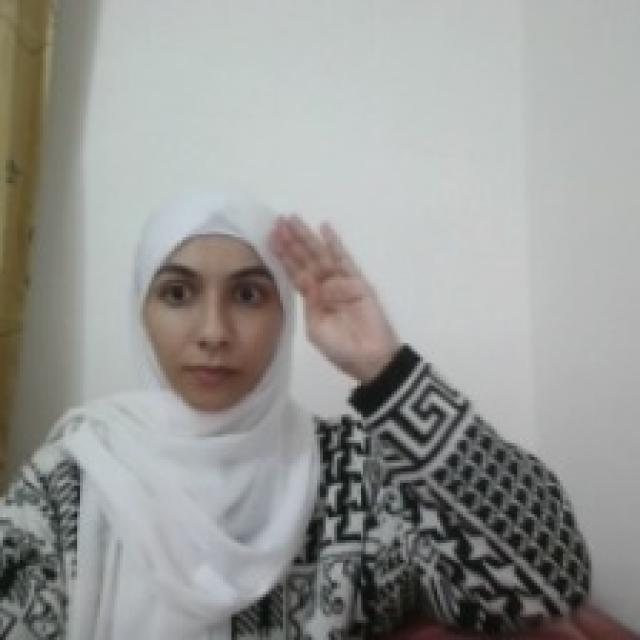Thanks: (263, 206, 399, 384)
